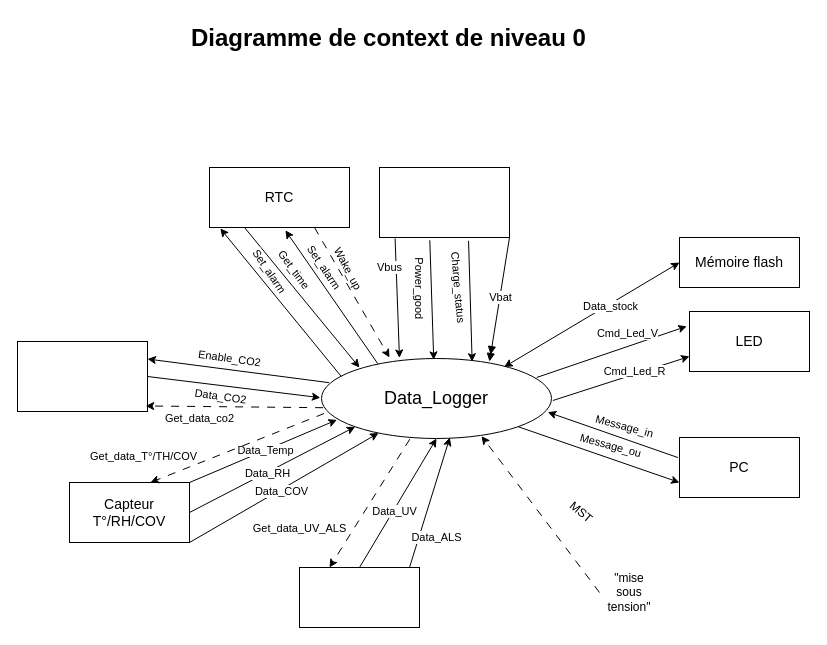
This 827x645 diagram has some shape labels left out. The shapes that lost their labels are listed below. From the top down, each one's centre as x and y in pixels, then its label:
At (x=444, y=202): "Gestionnaire batterie".
At (x=82, y=376): "Capteur CO2".
At (x=359, y=597): "Capteur UV/ALS".
